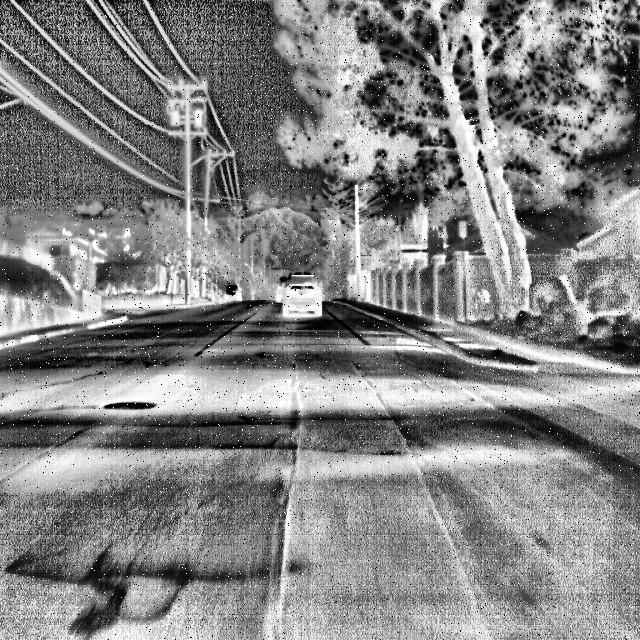car: (277, 264, 329, 330), (220, 277, 246, 312)
